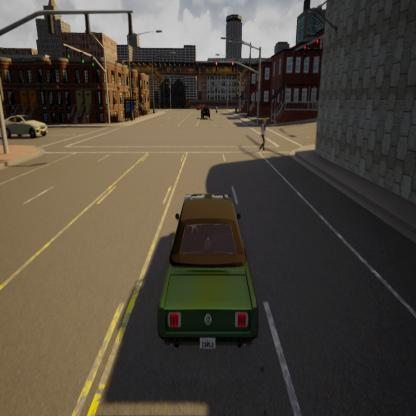Cars: (159, 189, 265, 361), (1, 108, 52, 141), (201, 103, 212, 121)
Pedestrian: (257, 112, 269, 154)
